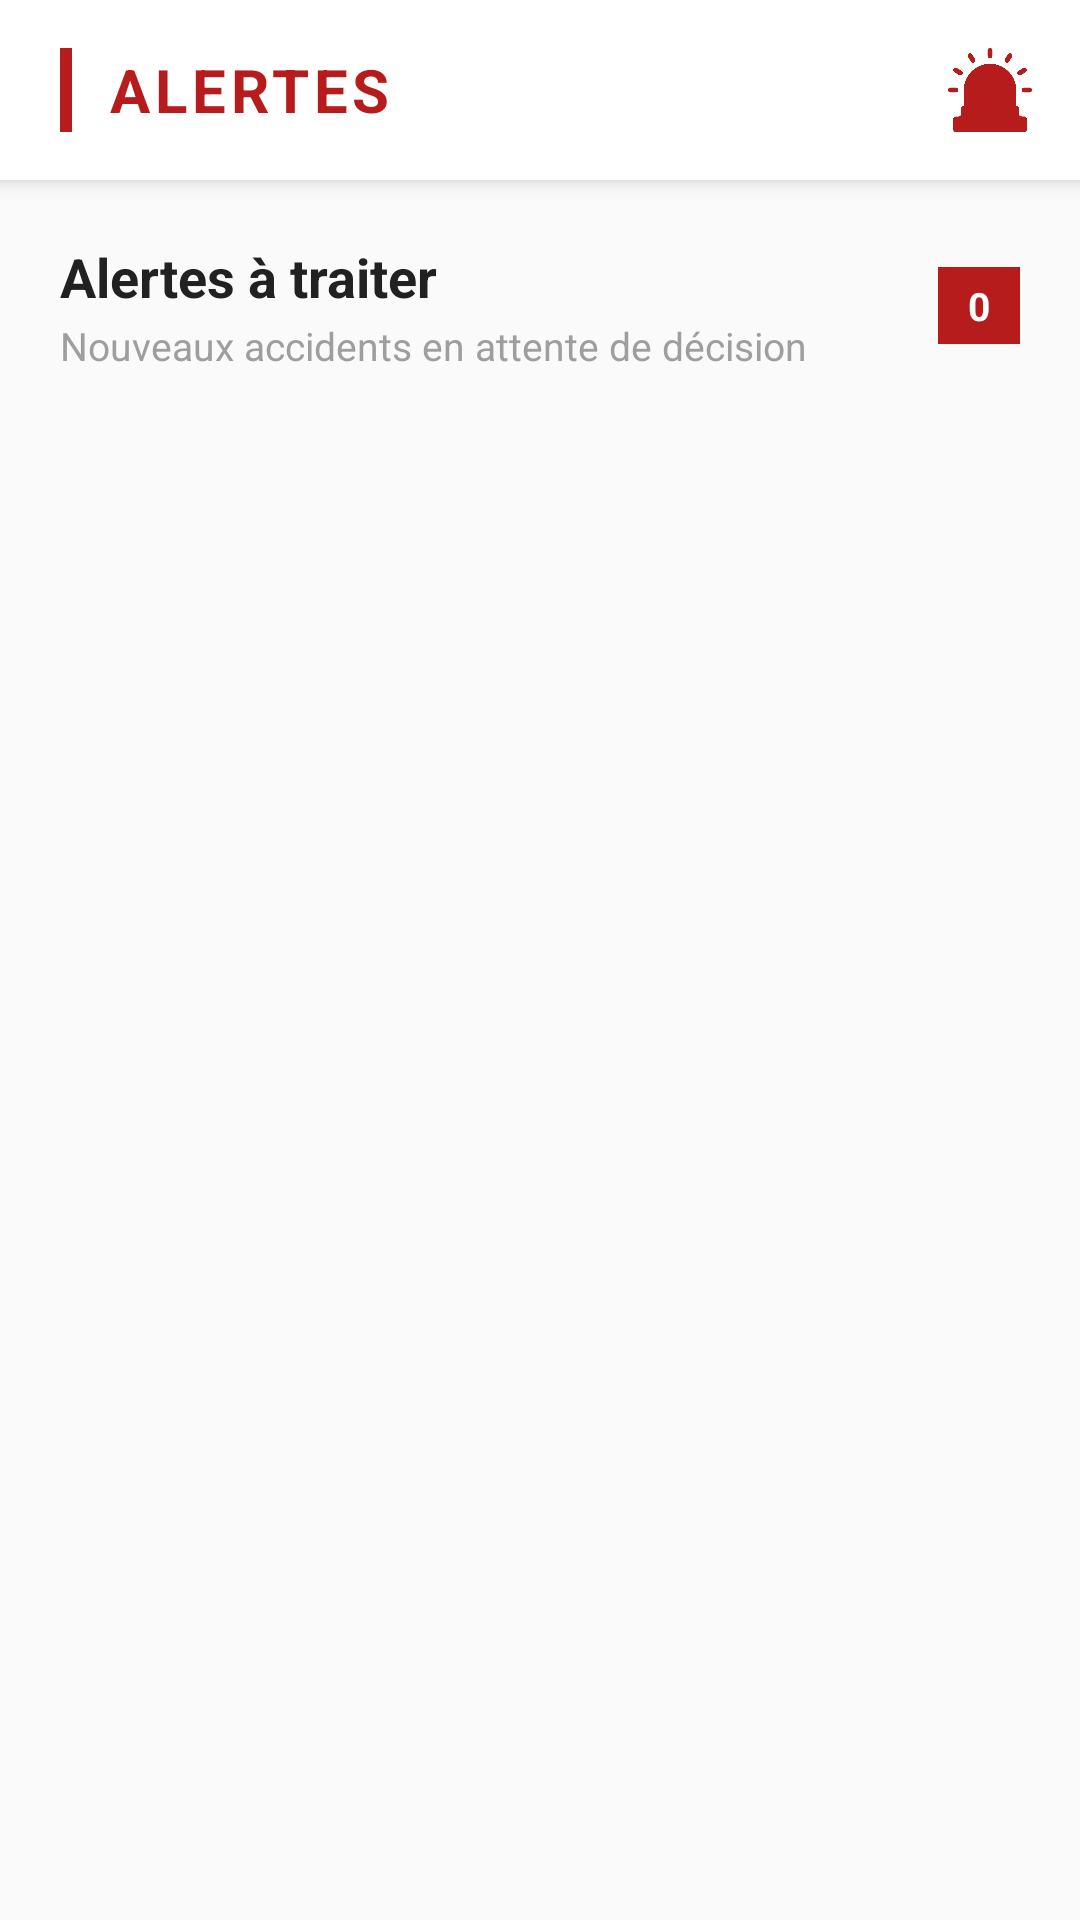

Named icons in this screenshot (1080*1920) and their bounding boxes, (x1, y1, x2, y2):
emergency: (948, 48, 1032, 132)
